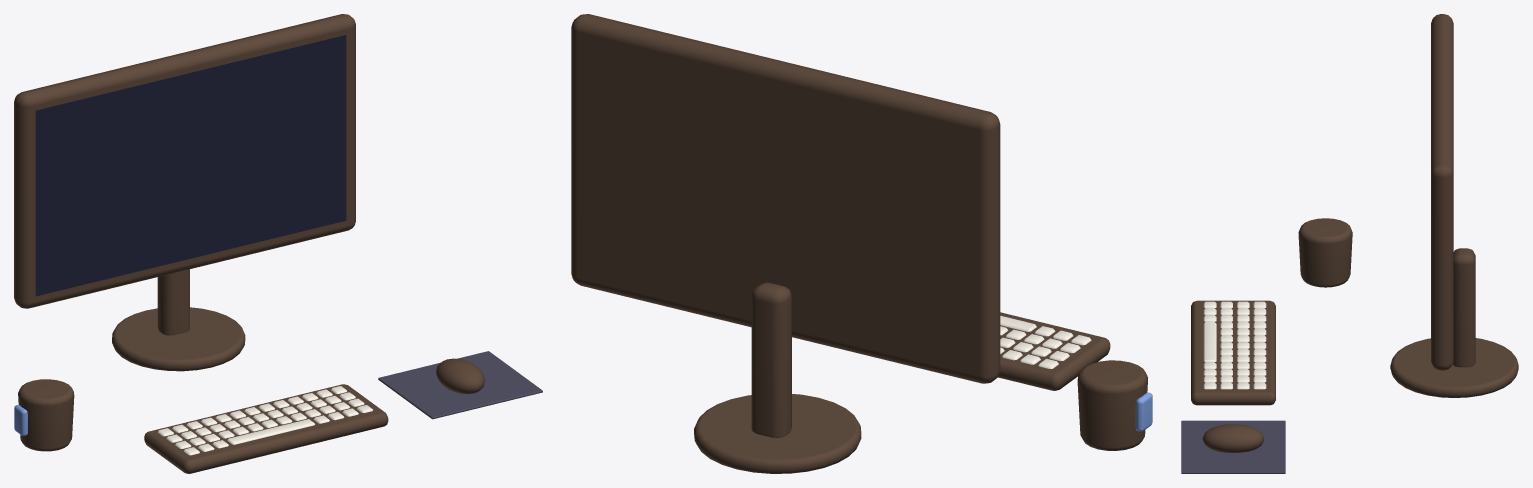
Rendered from monitor.glb.
3 views of the same model, side by side, from view 1: azimuth 30°, elevation 25°; view 2: azimuth 150°, elevation 25°; view 3: azimuth 270°, elevation 25° (orthographic). The views are drawn at different scales.
Parts seen in each view (by area): view 1: monitor; view 2: monitor; view 3: monitor.
Boxes of the visible parts, x1,y1,x2,y2 form: monitor: [14, 14, 542, 473]; monitor: [571, 14, 1152, 473]; monitor: [1181, 14, 1518, 473].
Size of the model in its own units: 0.811 by 0.5089 by 0.5494.
